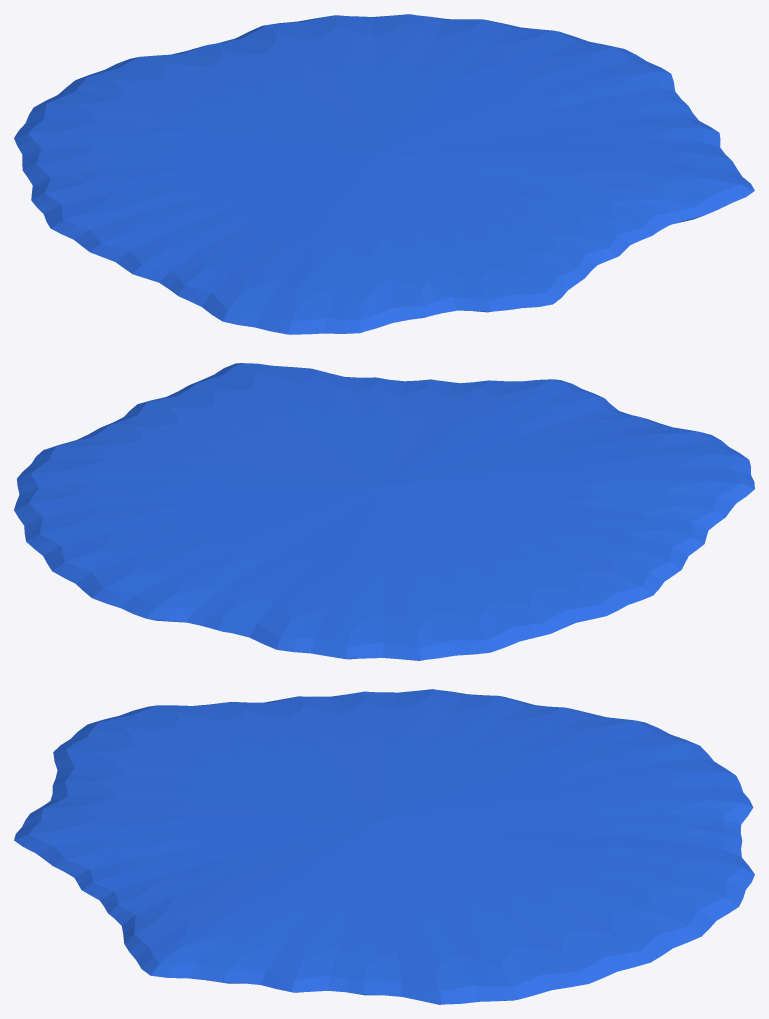
File: WaterPuddle.fbx
The picture shows the model from 3 angles, top to bottom: view 1: azimuth 30°, elevation 25°; view 2: azimuth 150°, elevation 25°; view 3: azimuth 270°, elevation 25°; orthographic projection. The views are drawn at different scales.
Parts seen in each view (by area): view 1: WaterPuddle; view 2: WaterPuddle; view 3: WaterPuddle.
Part boxes in pixels (bbox=[...]): WaterPuddle: bbox=[14, 14, 754, 334]; WaterPuddle: bbox=[14, 363, 754, 660]; WaterPuddle: bbox=[14, 689, 754, 1004].
Bounding box in the file's own units: 649 × 40.2 × 646.
